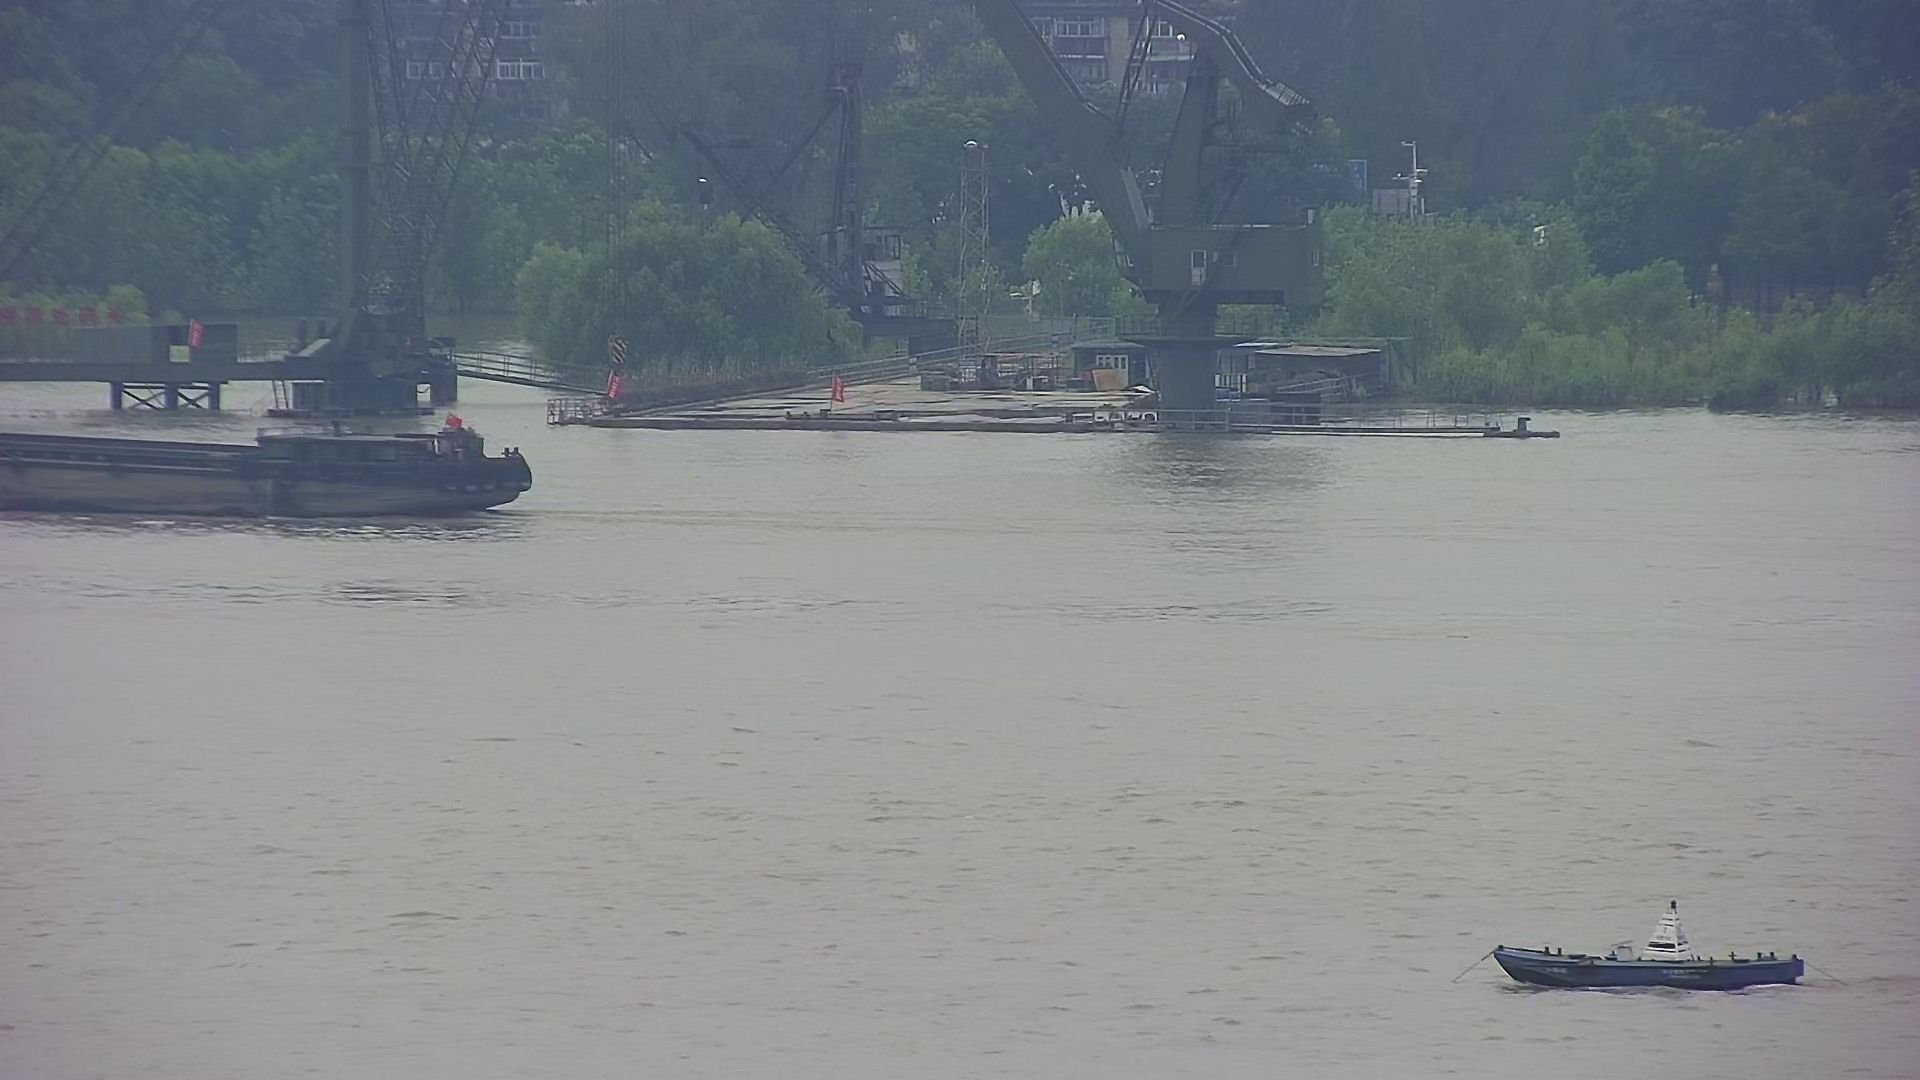boat: (1491, 899, 1807, 990)
harbor: (1, 287, 1404, 433)
ship: (1, 421, 535, 518)
